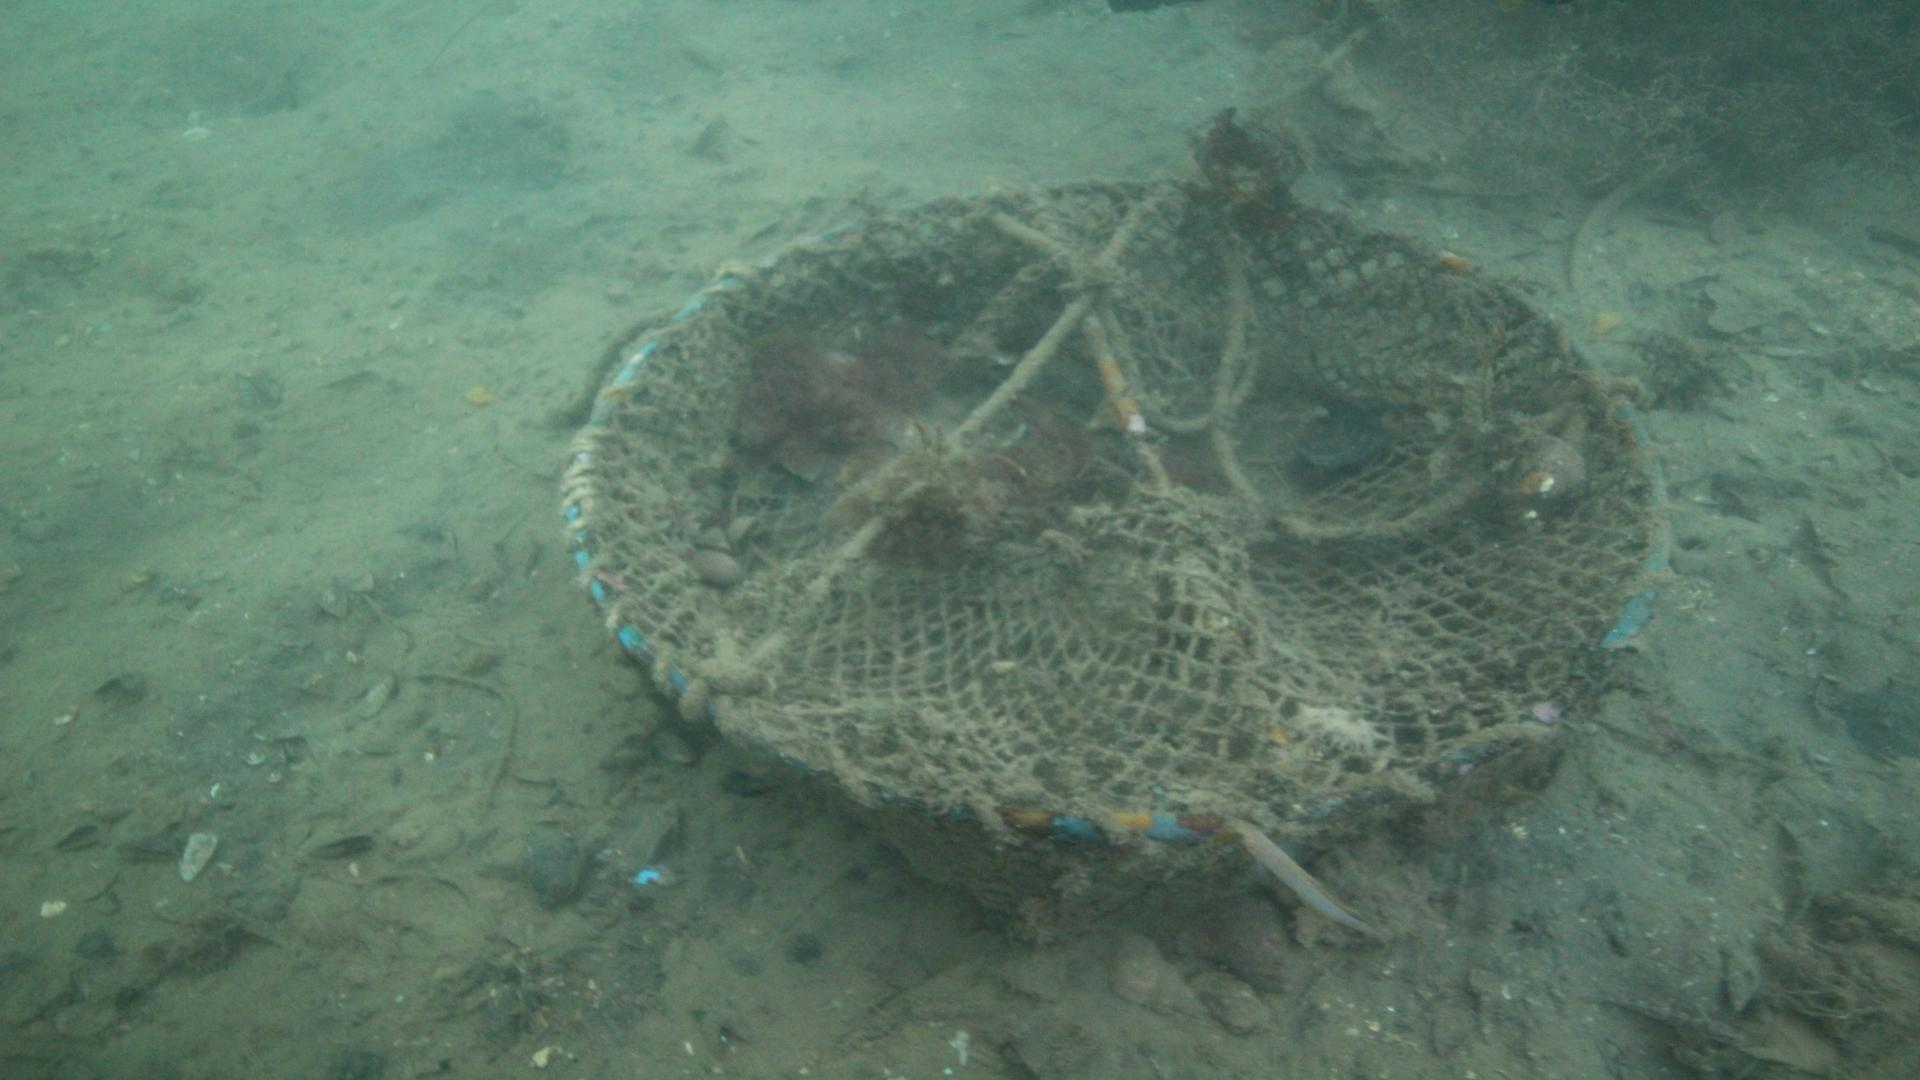circular fish trap: (558, 175, 1676, 942)
